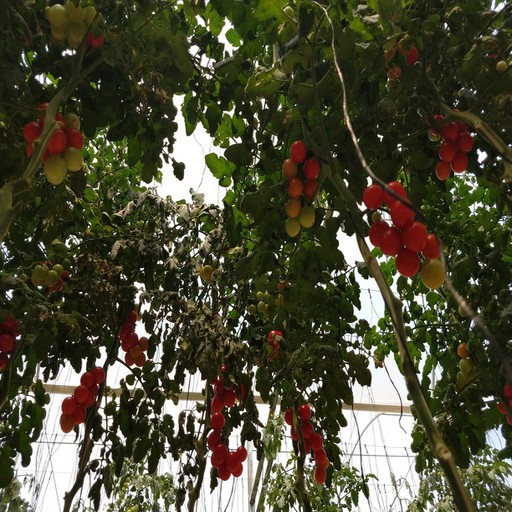green tomato bunch: (37, 1, 117, 48), (31, 261, 69, 294), (247, 291, 273, 313)
mixed tomato bunch: (24, 100, 84, 183), (285, 140, 321, 237), (387, 33, 420, 78), (457, 341, 482, 390)
red tomato bunch: (363, 181, 446, 290), (209, 368, 245, 484), (285, 405, 331, 485), (59, 365, 105, 433), (427, 110, 472, 178), (121, 312, 151, 365), (1, 312, 23, 370), (267, 331, 289, 364)
